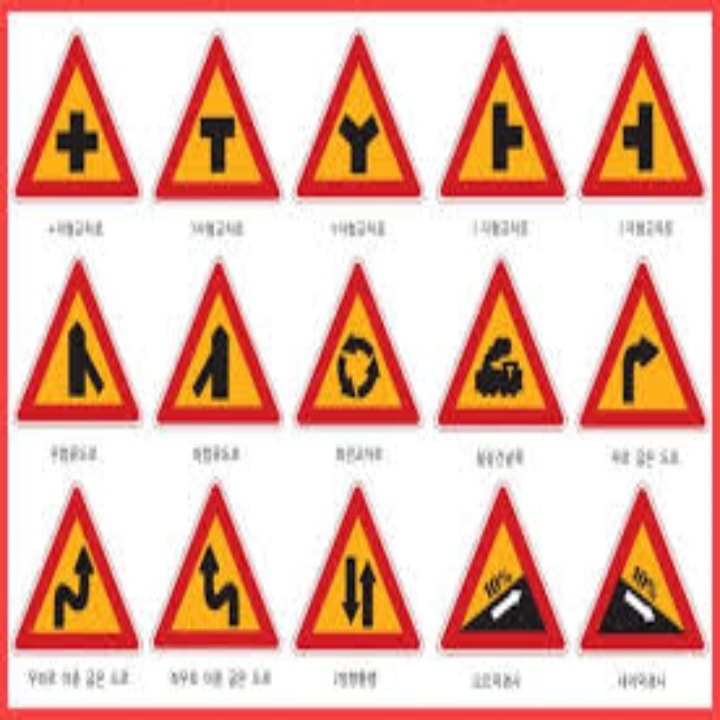inter: (51, 101, 102, 176)
right: (619, 330, 662, 406)
